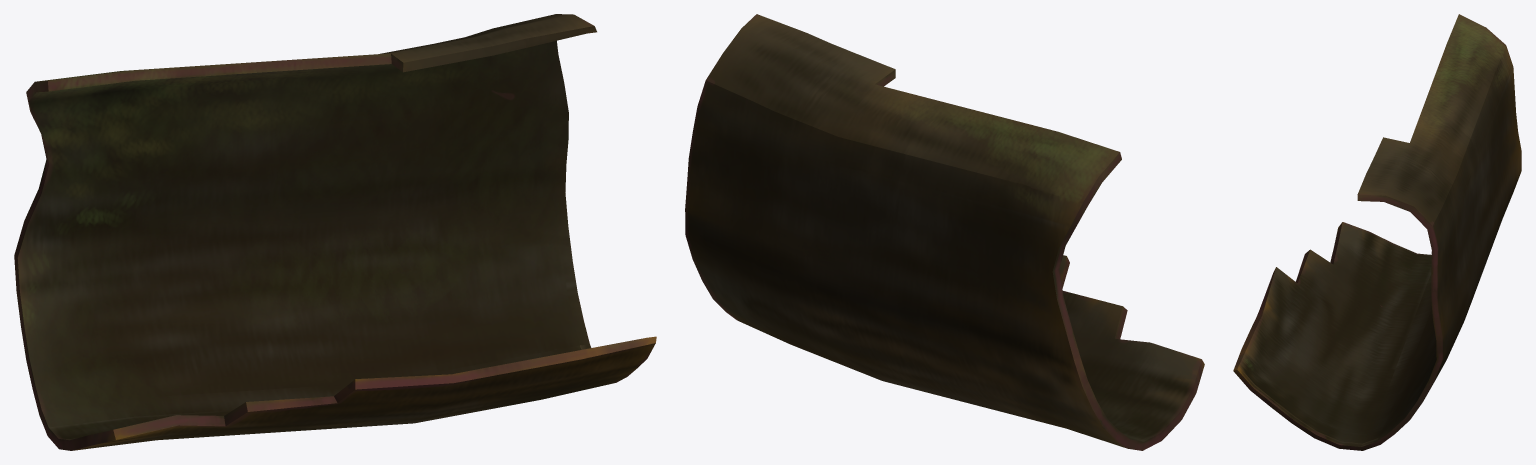
File: tronco_abierto.glb
The picture shows the model from 3 angles, left to right: view 1: azimuth 30°, elevation 25°; view 2: azimuth 150°, elevation 25°; view 3: azimuth 270°, elevation 25°; orthographic projection. The views are drawn at different scales.
Visible parts, largest first — view 1: tronco_abierto; view 2: tronco_abierto; view 3: tronco_abierto.
Boxes of the visible parts, x1,y1,x2,y2 form: tronco_abierto: [14, 14, 656, 450]; tronco_abierto: [685, 14, 1204, 450]; tronco_abierto: [1233, 14, 1521, 450].
Bounding box in the file's own units: 4.52 × 3.01 × 2.9.
Materials: 1 (1 with a texture image).
